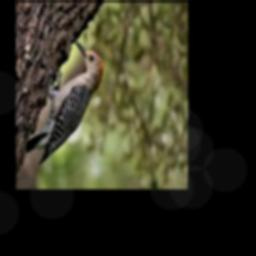Woodpecker: (25, 39, 103, 165)
